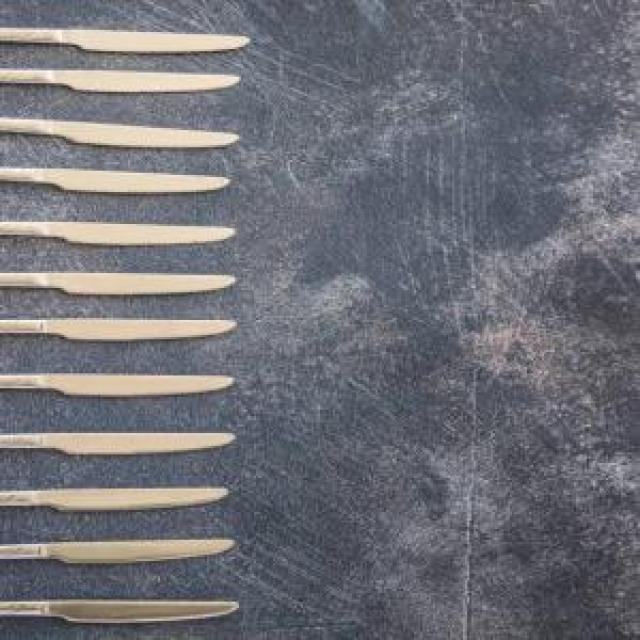knife: (0, 533, 241, 572), (0, 424, 238, 463), (0, 218, 243, 256), (0, 318, 241, 356), (0, 68, 247, 104), (0, 369, 243, 403), (0, 26, 258, 58), (0, 119, 245, 151), (0, 482, 234, 515), (0, 595, 243, 625), (0, 167, 238, 196), (0, 271, 245, 298)
